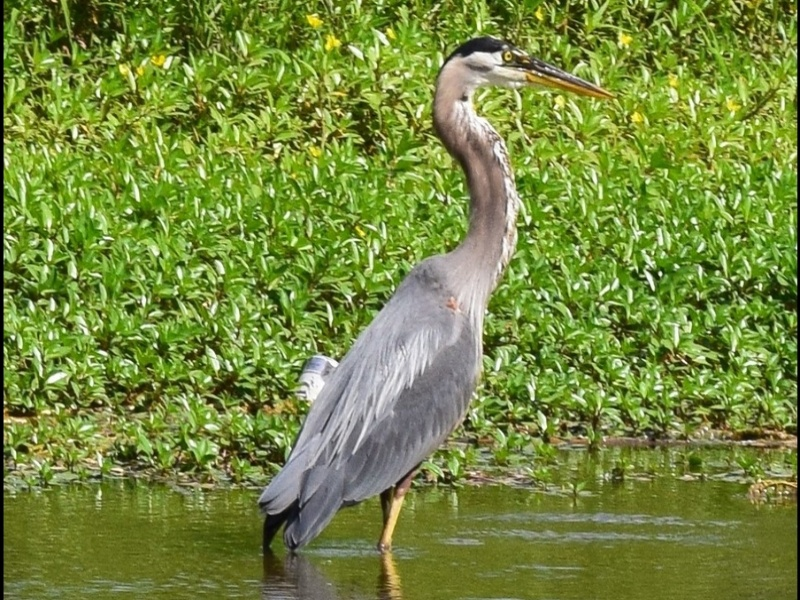heron: (251, 35, 621, 559)
